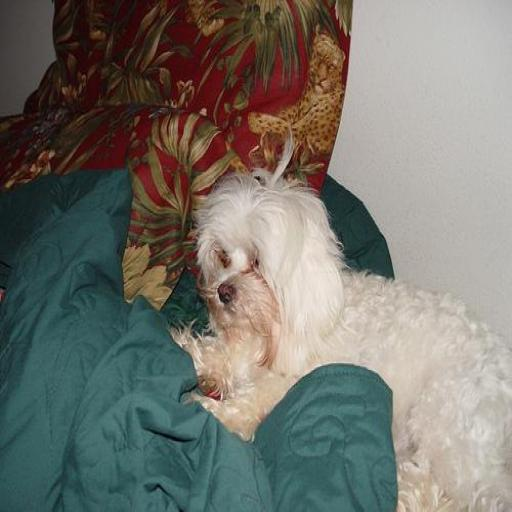dog_face: (186, 168, 343, 360)
